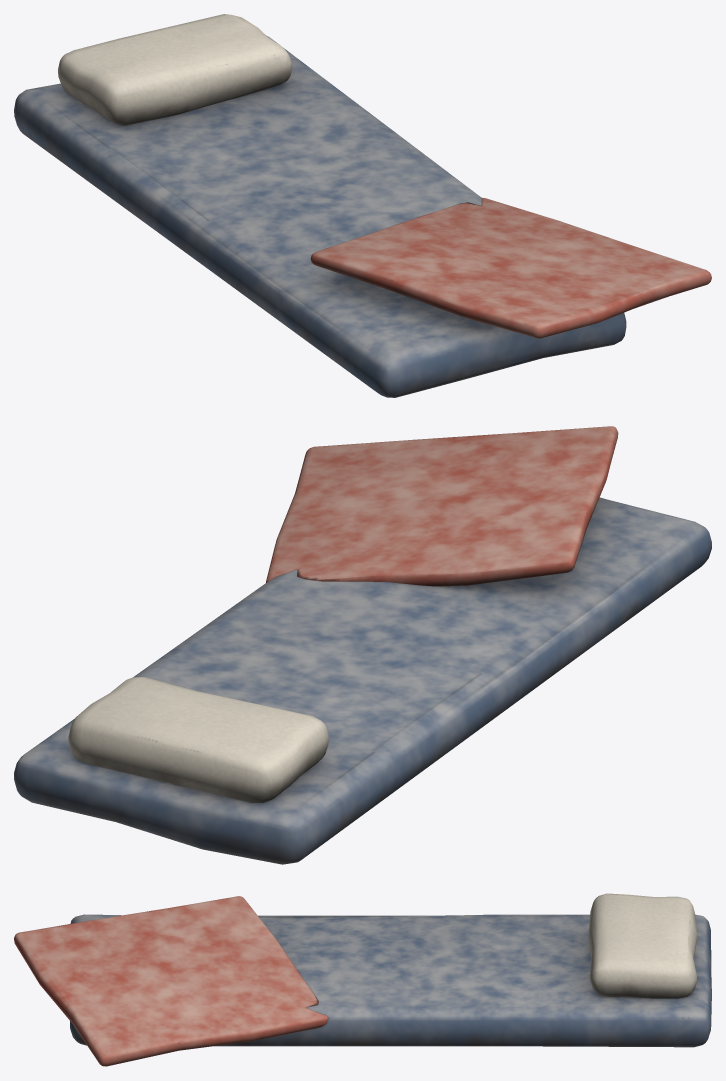
File: sleeping_bag.fbx
3 renders of one model, top to bottom at view 1: azimuth 30°, elevation 25°; view 2: azimuth 150°, elevation 25°; view 3: azimuth 270°, elevation 25°, orthographic. The views are drawn at different scales.
Visible parts, largest first — view 1: Body; view 2: Body; view 3: Body.
Boxes of the visible parts, x1=… form: Body: x1=14, y1=14, x2=711, y2=397; Body: x1=14, y1=426, x2=711, y2=864; Body: x1=14, y1=893, x2=711, y2=1066.
Bounding box in the file's own units: 2.99 × 0.7298 × 6.08.
Materials: 1 (1 with a texture image).
